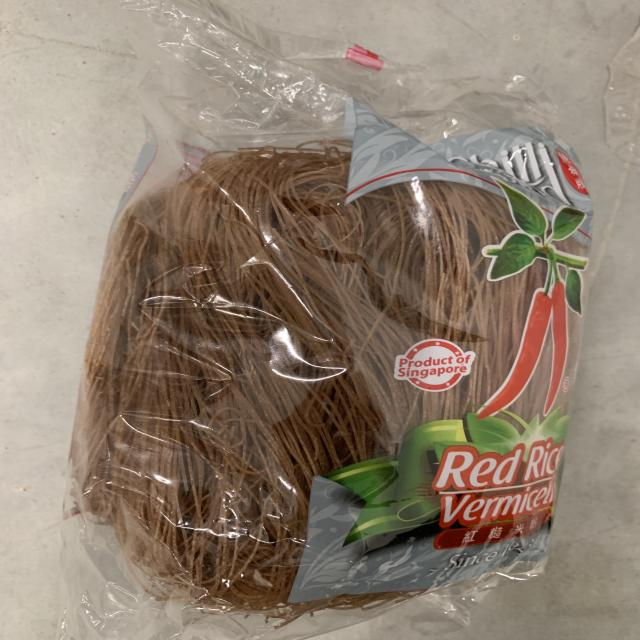object_name: (155, 69, 540, 599)
